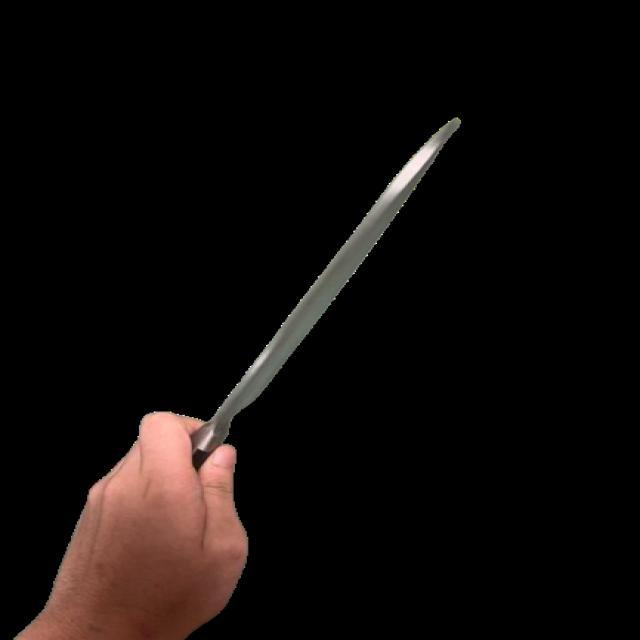knife: (167, 113, 475, 483)
